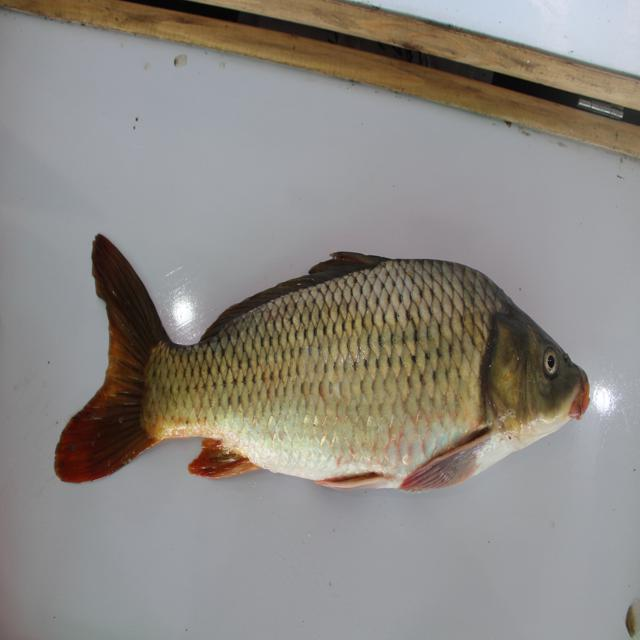CommonCarp: (35, 202, 614, 524)
